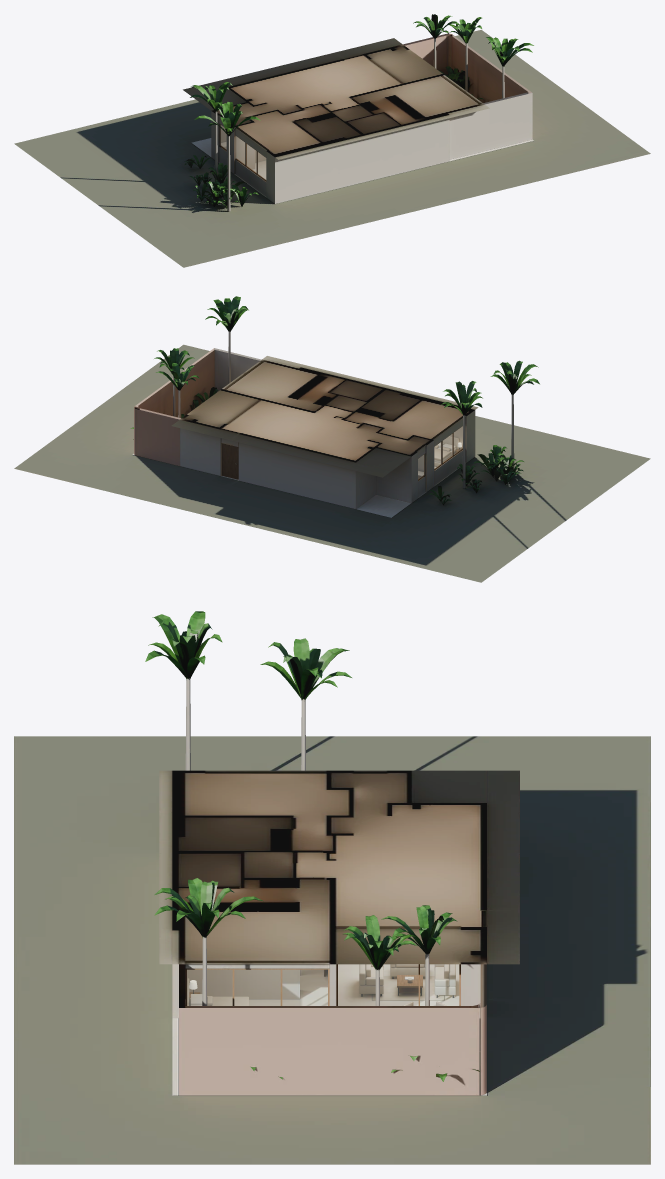
3 views of the same model, one above another, from view 1: azimuth 30°, elevation 25°; view 2: azimuth 150°, elevation 25°; view 3: azimuth 270°, elevation 25° (orthographic). The views are drawn at different scales.
Visible parts, largest first — view 1: D1_piso, D1_muros, D1_muebles, D1_vidrio; view 2: D1_piso, D1_muros, D1_muebles, D1_carp, D1_vidrio; view 3: D1_piso, D1_muros, D1_muebles, D1_vidrio, D1_carp.
Boxes of the visible parts, <box> form: D1_piso: <box>14,29,650,267</box>; D1_muros: <box>183,33,532,203</box>; D1_muebles: <box>184,14,533,211</box>; D1_vidrio: <box>221,125,265,179</box>; D1_piso: <box>14,344,650,582</box>; D1_muros: <box>134,348,478,509</box>; D1_muebles: <box>130,296,539,505</box>; D1_carp: <box>221,426,462,480</box>; D1_vidrio: <box>418,426,462,478</box>; D1_piso: <box>14,736,650,1164</box>; D1_muros: <box>159,770,519,1095</box>; D1_muebles: <box>145,611,479,1081</box>; D1_vidrio: <box>187,964,458,1005</box>; D1_carp: <box>185,964,460,1005</box>.
Bounding box in the file's own units: 30.93 × 6.62 × 19.43.
5 materials, 4 textured.
